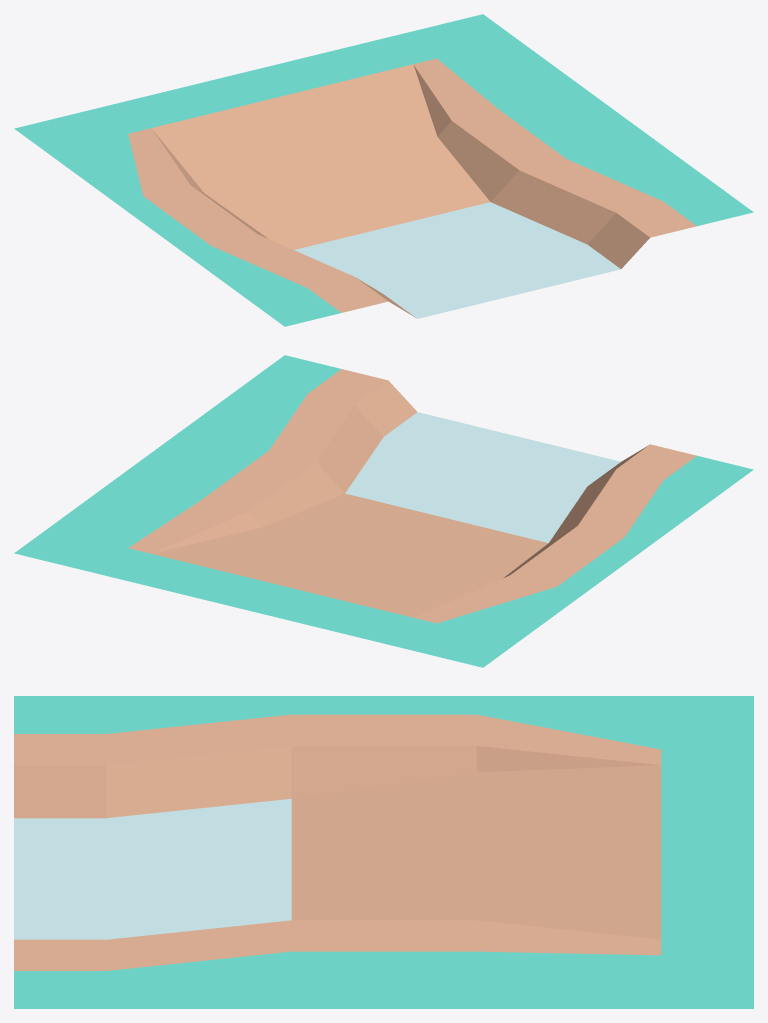
The model's file is ground_riverEnd.glb.
3 views of the same model, one above another, from view 1: azimuth 30°, elevation 25°; view 2: azimuth 150°, elevation 25°; view 3: azimuth 270°, elevation 25° (orthographic). The views are drawn at different scales.
Parts seen in each view (by area): view 1: ground_riverEnd; view 2: ground_riverEnd; view 3: ground_riverEnd.
Part boxes in pixels (x1=…): ground_riverEnd: x1=14, y1=14, x2=753, y2=326; ground_riverEnd: x1=14, y1=355, x2=753, y2=667; ground_riverEnd: x1=14, y1=696, x2=753, y2=1008.
Bounding box in the file's own units: 1 × 0.05 × 1.
